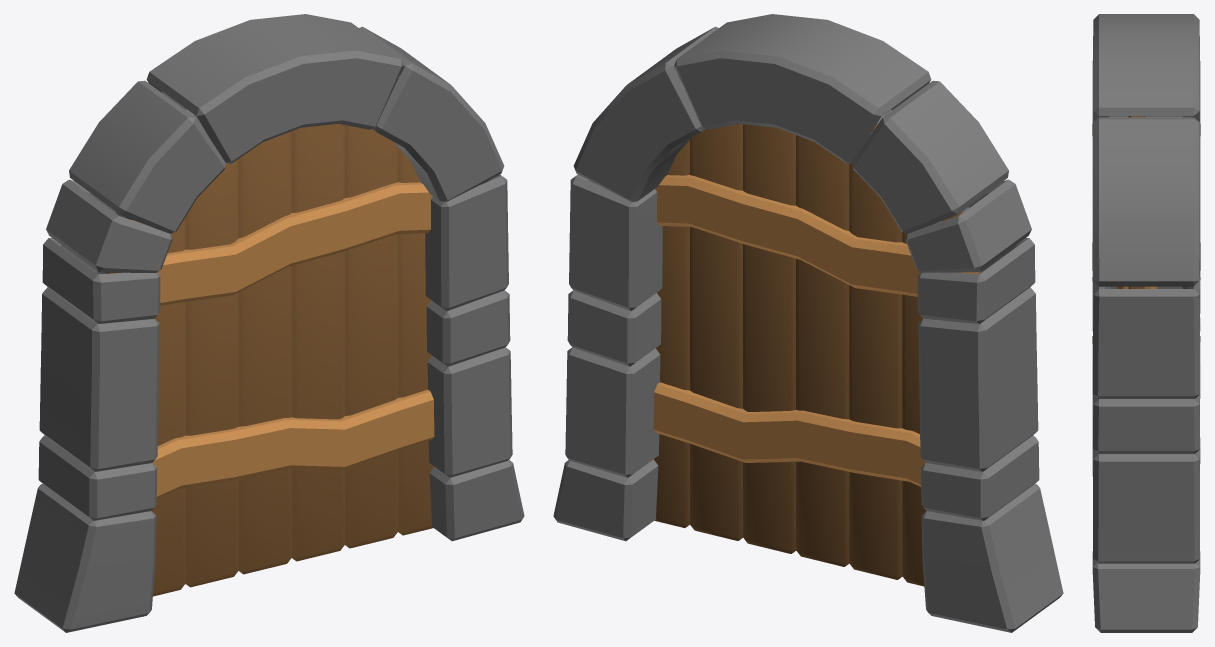
Rendered from Door.fbx.
3 views of the same model, side by side, from view 1: azimuth 30°, elevation 25°; view 2: azimuth 150°, elevation 25°; view 3: azimuth 270°, elevation 25° (orthographic). The views are drawn at different scales.
Parts seen in each view (by area): view 1: Cube.009; view 2: Cube.009; view 3: Cube.009.
Part boxes in pixels (bbox=[...]): Cube.009: bbox=[14, 14, 524, 632]; Cube.009: bbox=[553, 14, 1063, 632]; Cube.009: bbox=[1092, 14, 1200, 632].
Bounding box in the file's own units: 60.04 × 64.94 × 12.8.
